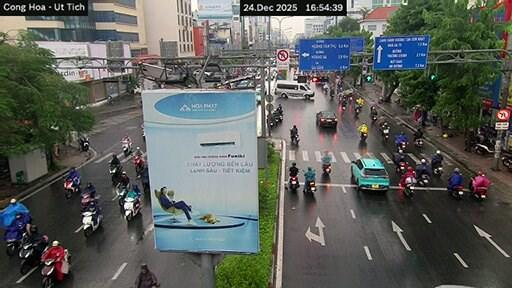motorbike: (19, 241, 41, 274), (82, 210, 102, 236), (5, 231, 24, 255), (41, 259, 56, 287), (469, 177, 487, 200), (123, 197, 141, 220), (63, 178, 79, 198), (475, 140, 494, 154), (404, 177, 417, 197), (109, 164, 121, 184), (81, 193, 95, 210), (116, 185, 127, 206), (447, 185, 463, 199), (501, 150, 511, 171), (134, 155, 143, 177), (288, 176, 299, 191), (79, 135, 89, 151), (304, 181, 316, 194), (404, 183, 415, 197), (418, 173, 429, 186), (268, 113, 277, 128), (122, 141, 131, 156), (396, 161, 406, 174), (414, 138, 424, 151), (381, 126, 389, 141), (396, 141, 406, 151), (433, 164, 442, 175), (322, 164, 331, 174), (291, 134, 299, 144), (141, 124, 145, 141), (360, 132, 367, 141), (355, 106, 360, 115), (371, 114, 377, 121)
